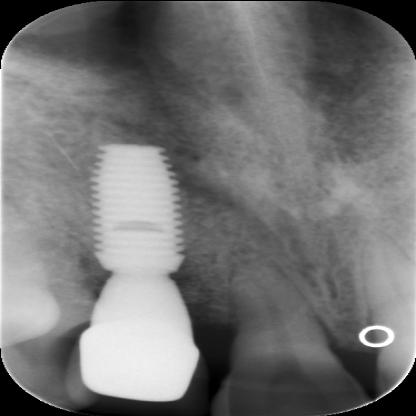Bicon: (86, 141, 190, 273)
